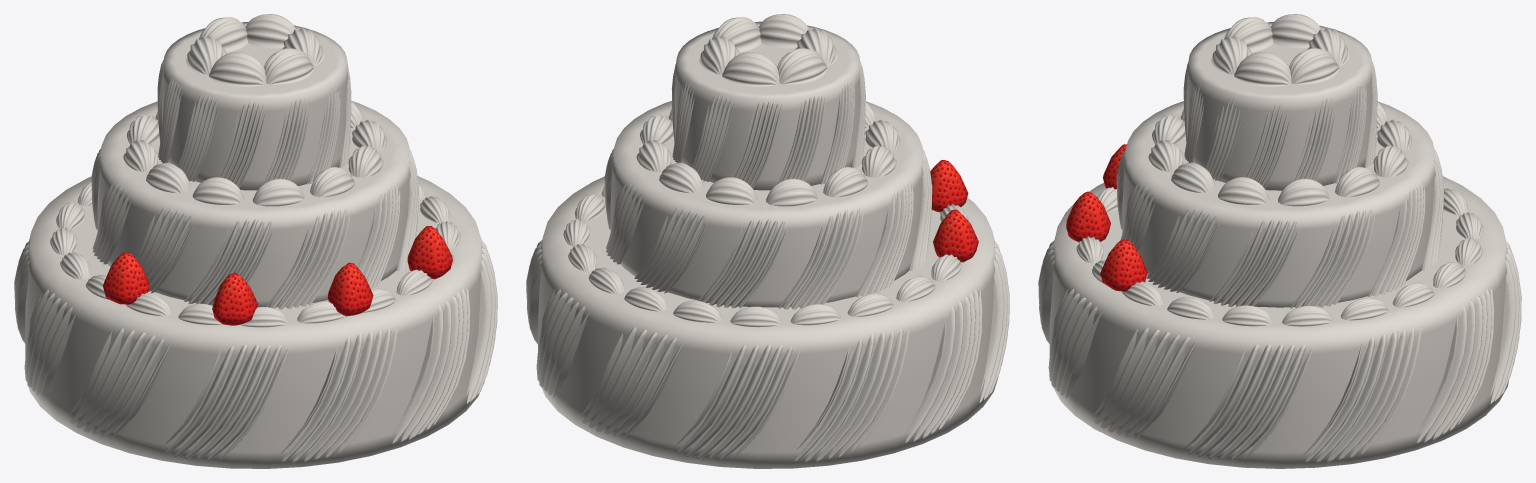
3 views of the same model, side by side, from view 1: azimuth 30°, elevation 25°; view 2: azimuth 150°, elevation 25°; view 3: azimuth 270°, elevation 25° (orthographic).
Parts seen in each view (by area): view 1: pSphere12; view 2: pSphere12; view 3: pSphere12.
Boxes of the visible parts, x1,y1,x2,y2 form: pSphere12: [14, 14, 497, 468]; pSphere12: [526, 14, 1009, 468]; pSphere12: [1038, 14, 1521, 468].
Size of the model in its own units: 32.56 by 25.1 by 32.56.
